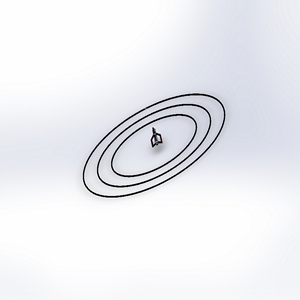circle: (73, 85, 231, 207)
submarine: (142, 125, 170, 152)
